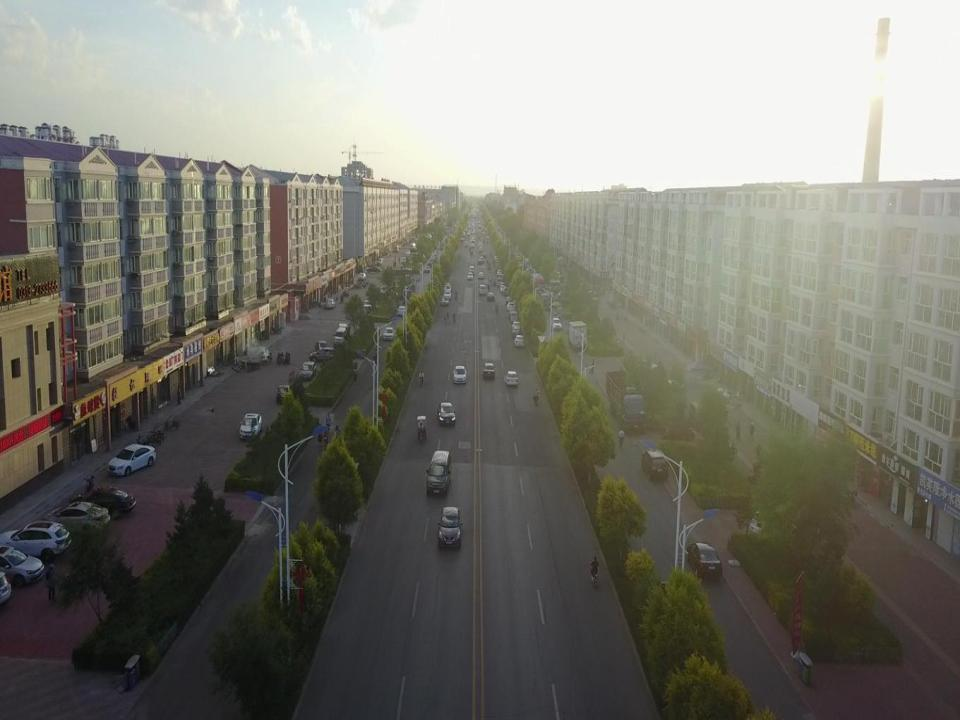car: (0, 519, 71, 562), (68, 485, 136, 520), (42, 502, 111, 536), (0, 544, 46, 587), (107, 443, 156, 477), (686, 540, 723, 582), (749, 507, 791, 536), (436, 505, 462, 550), (238, 412, 262, 440), (308, 346, 339, 364), (276, 382, 294, 408), (438, 402, 456, 426), (299, 360, 318, 382), (452, 365, 468, 385), (504, 370, 520, 388), (482, 362, 496, 379), (313, 339, 328, 354), (382, 326, 395, 341), (550, 316, 562, 332), (514, 332, 525, 348), (324, 296, 336, 310), (396, 305, 407, 317), (486, 292, 494, 301), (477, 271, 485, 280)
truck: (606, 369, 647, 434), (565, 320, 588, 353)
van: (425, 449, 452, 497), (641, 448, 670, 483), (689, 399, 712, 431), (333, 326, 347, 346), (338, 322, 349, 339), (511, 320, 521, 334), (478, 284, 486, 296), (466, 271, 474, 281), (468, 265, 475, 274)
